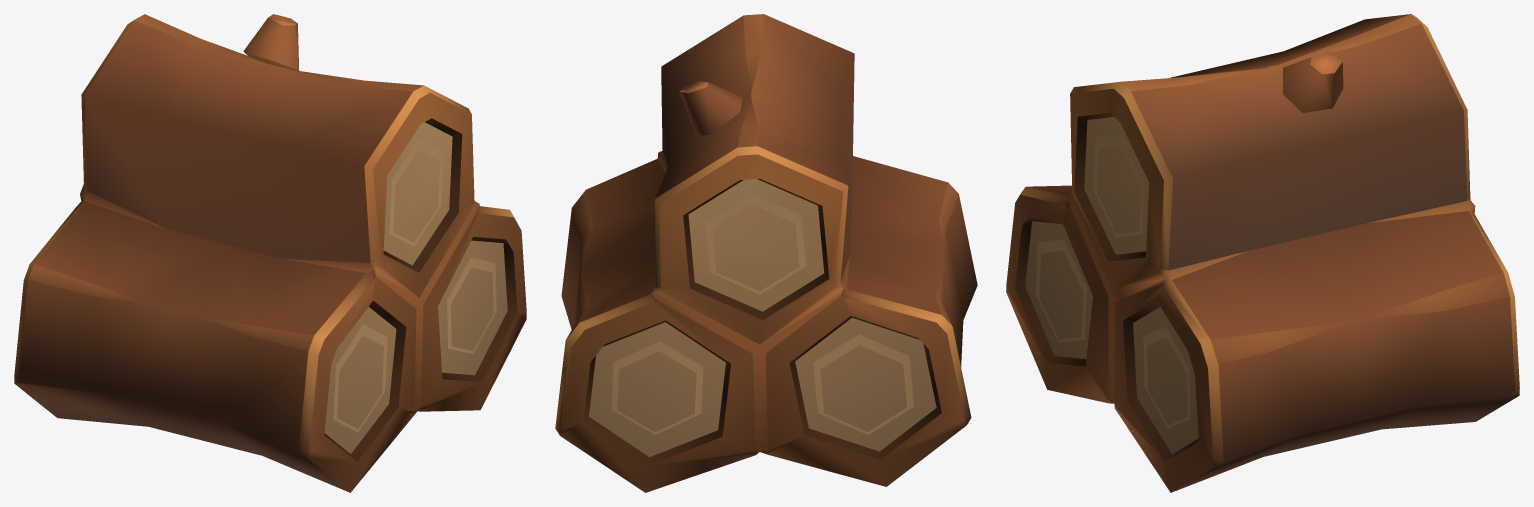
Rendered from Icon_wood.fbx.
The picture shows the model from 3 angles, left to right: view 1: azimuth 30°, elevation 25°; view 2: azimuth 150°, elevation 25°; view 3: azimuth 270°, elevation 25°; orthographic projection. The views are drawn at different scales.
Visible parts, largest first — view 1: Cylinder.001; view 2: Cylinder.001; view 3: Cylinder.001.
Boxes of the visible parts, box(x1,y1,x2,y2) form: Cylinder.001: box(14, 14, 526, 492); Cylinder.001: box(555, 14, 977, 492); Cylinder.001: box(1006, 14, 1519, 492).
Size of the model in its own units: 528 by 399 by 495.
